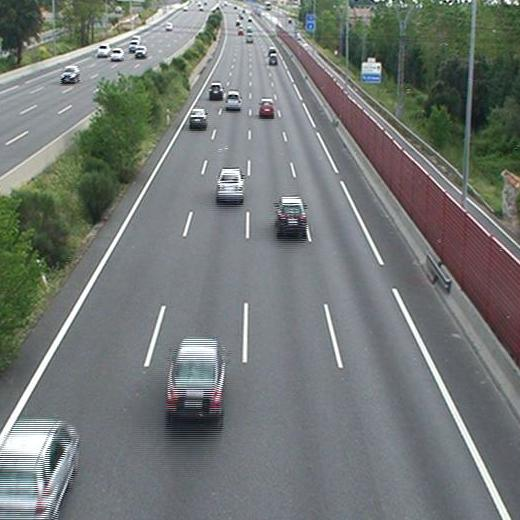car: (1, 419, 78, 520), (167, 338, 224, 412), (276, 198, 306, 232), (216, 169, 243, 198), (225, 92, 242, 108), (259, 99, 274, 115), (190, 110, 206, 125), (209, 83, 224, 98), (268, 54, 278, 65)
